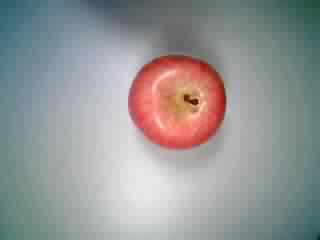apple: (122, 51, 227, 153)
